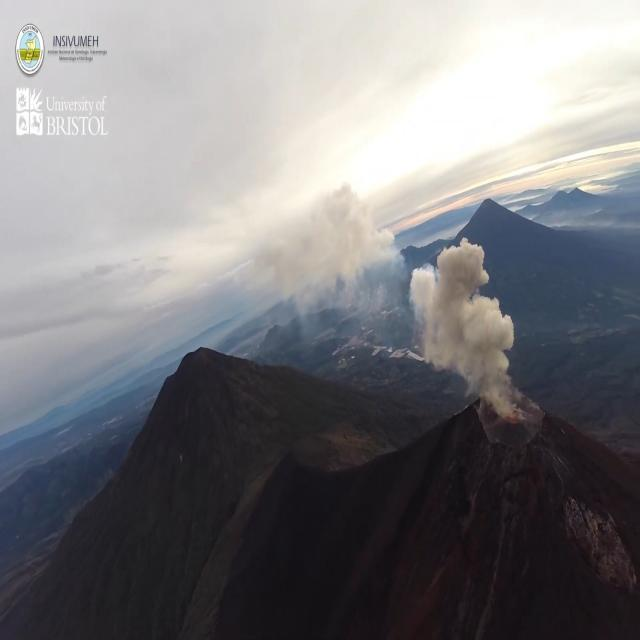Plume: (403, 220, 532, 398), (242, 181, 390, 320)
Summit: (466, 392, 566, 512)
